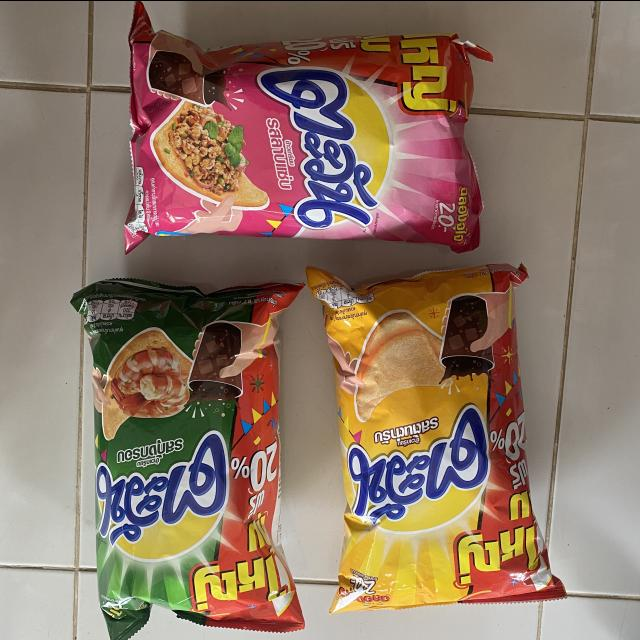plastik: (125, 0, 493, 251), (307, 264, 566, 613), (72, 278, 304, 640)
